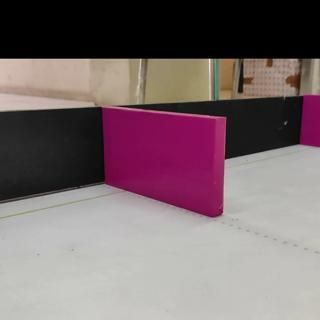xparking: (103, 117, 214, 203), (305, 97, 319, 145)
